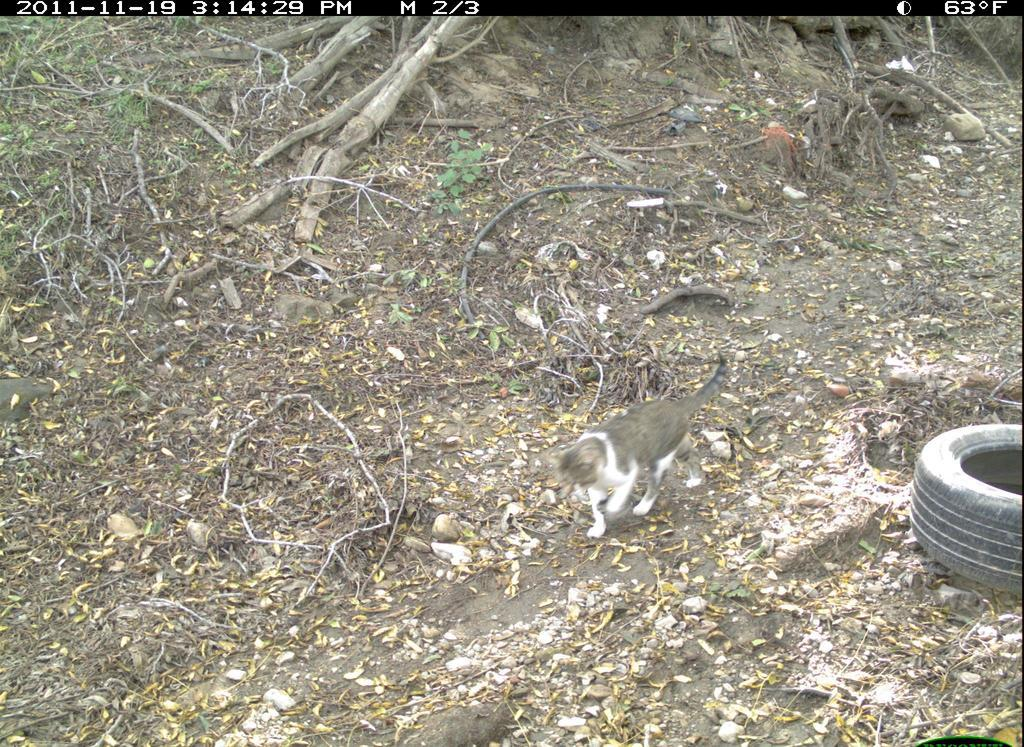cat: (541, 345, 744, 553)
